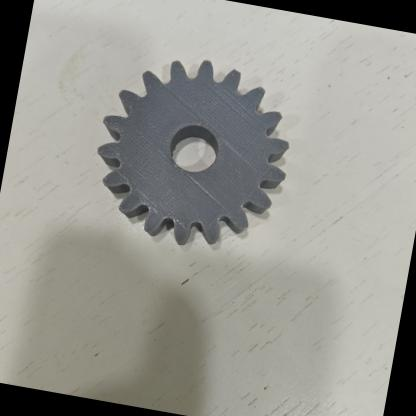gear: (66, 31, 336, 283)
